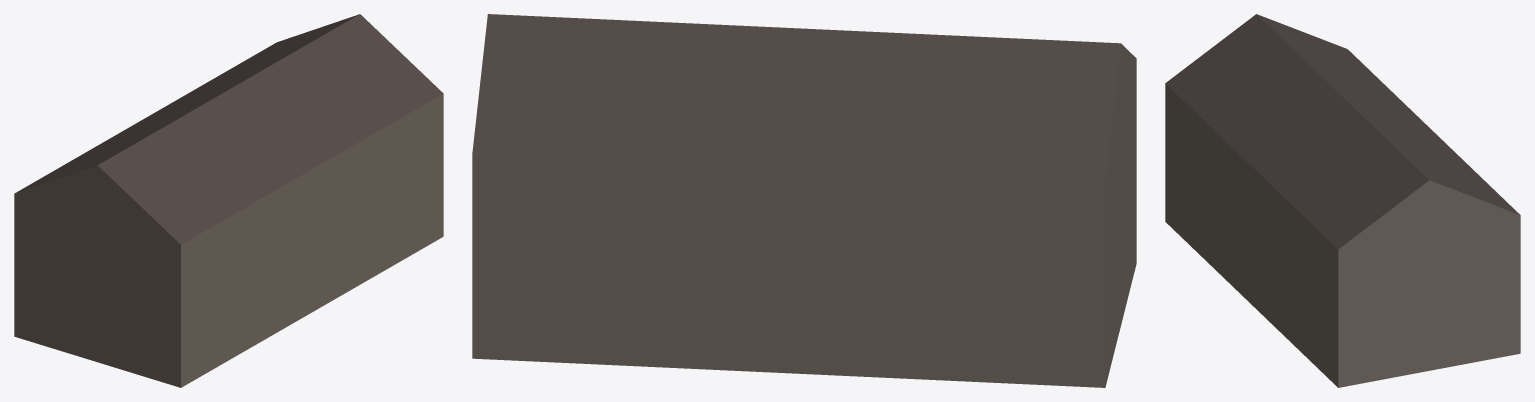
The picture shows the model from 3 angles, left to right: view 1: azimuth 30°, elevation 25°; view 2: azimuth 150°, elevation 25°; view 3: azimuth 270°, elevation 25°; orthographic projection. The views are drawn at different scales.
Visible parts, largest first — view 1: HP-w1203858320; view 2: HP-w1203858320; view 3: HP-w1203858320.
Boxes of the visible parts, left/top/right/bottom form: HP-w1203858320: left=14, top=14, right=443, bottom=387; HP-w1203858320: left=472, top=14, right=1136, bottom=387; HP-w1203858320: left=1165, top=14, right=1520, bottom=387.
Size of the model in its own units: 27.97 by 12.4 by 20.96.
